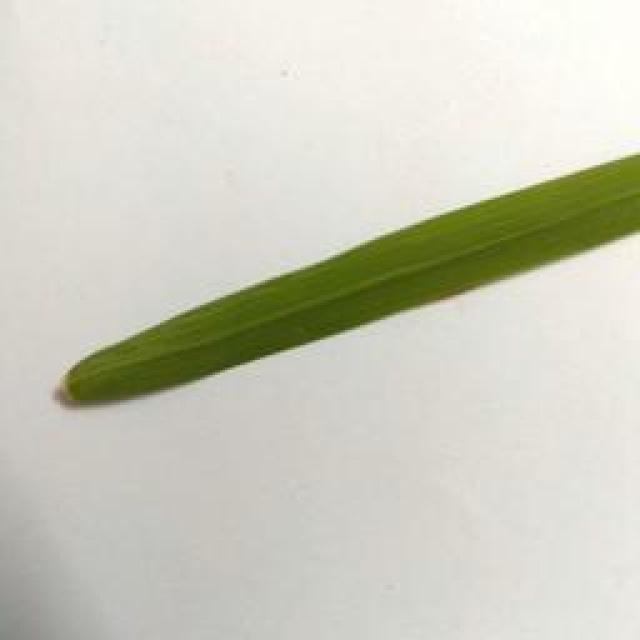Healthy-Plant: (63, 152, 640, 402)
